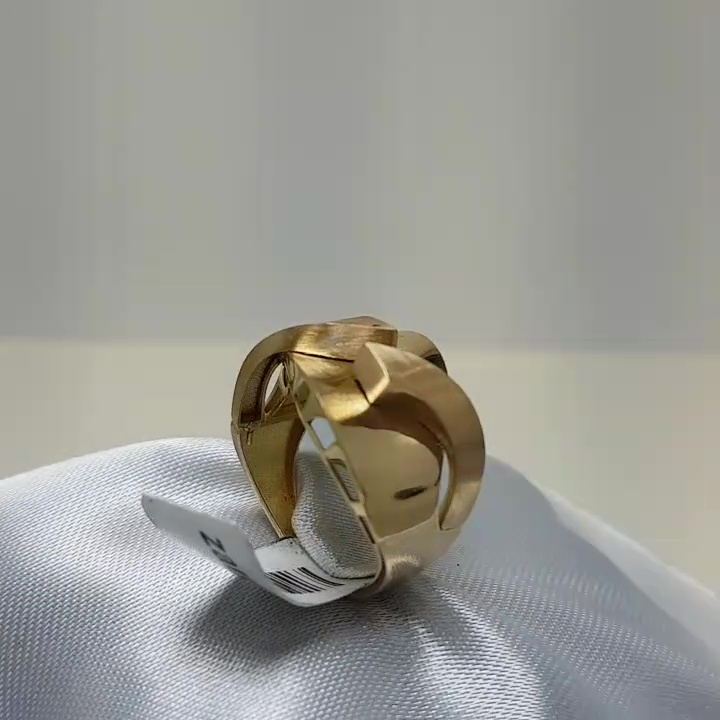Ring 4: (216, 303, 500, 609)
